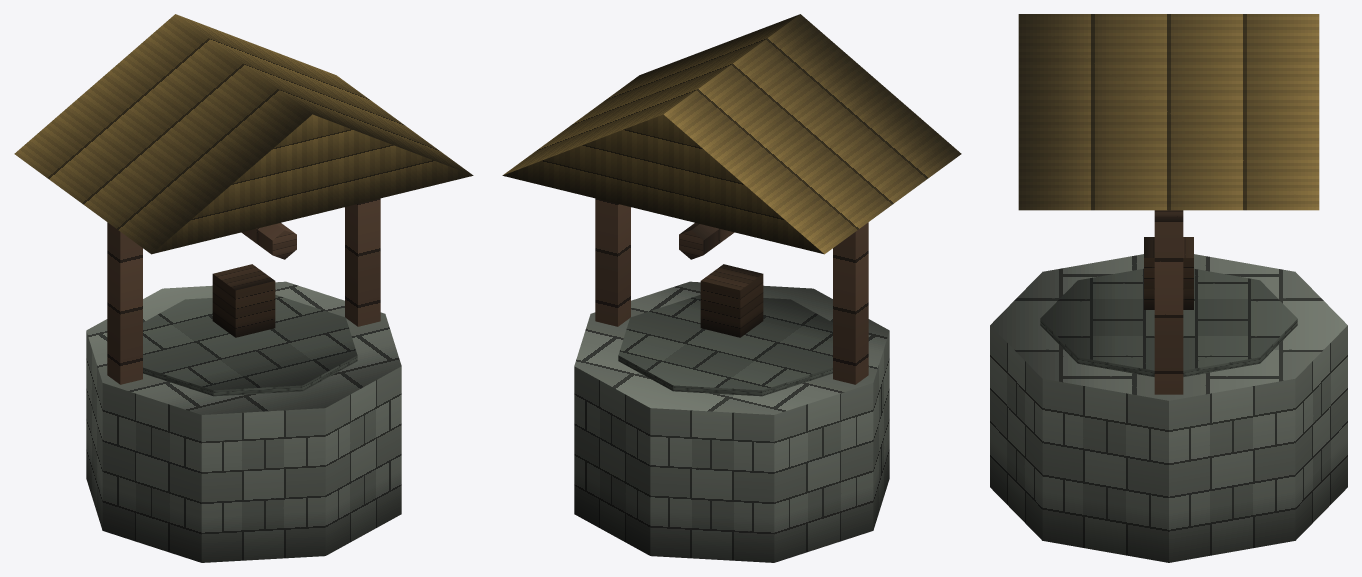
The model's file is well.gltf.
3 views of the same model, side by side, from view 1: azimuth 30°, elevation 25°; view 2: azimuth 150°, elevation 25°; view 3: azimuth 270°, elevation 25° (orthographic). The views are drawn at different scales.
Visible parts, largest first — view 1: well; view 2: well; view 3: well.
Part boxes in pixels (x1,y1,x2,y2): well: [14, 14, 473, 562]; well: [502, 14, 961, 562]; well: [990, 14, 1347, 562].
Size of the model in its own units: 1.14 by 1.46 by 1.
1 material, 1 textured.
